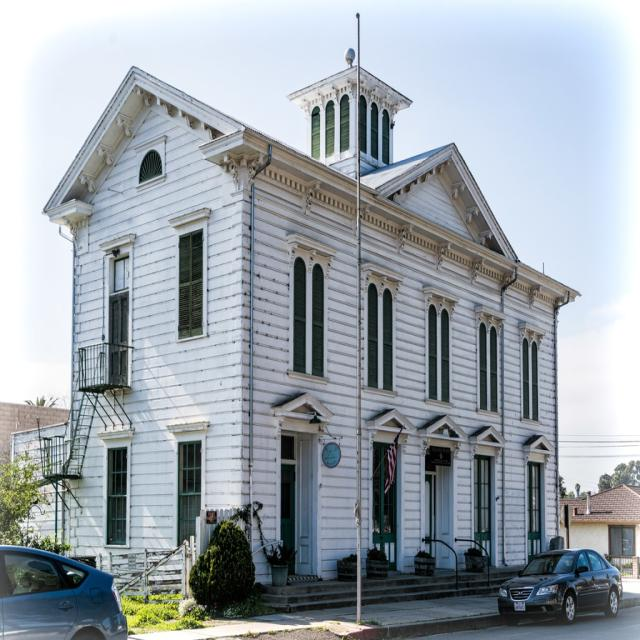car: (497, 547, 622, 625)
